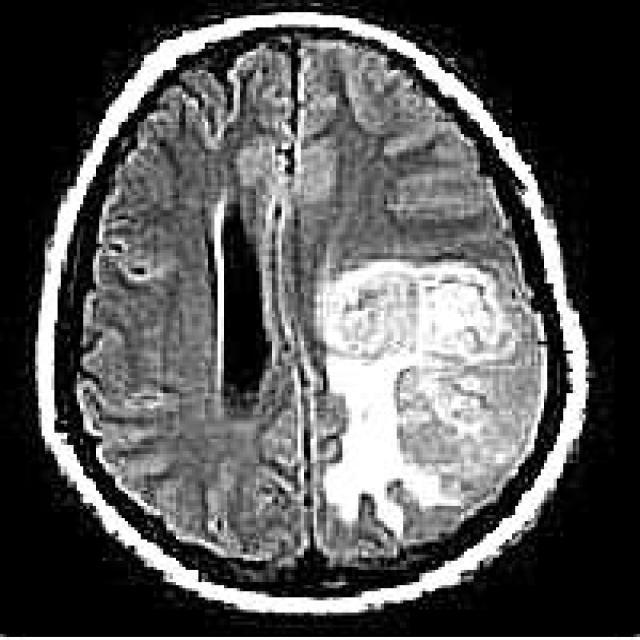brain tumor: (307, 268, 506, 518)
